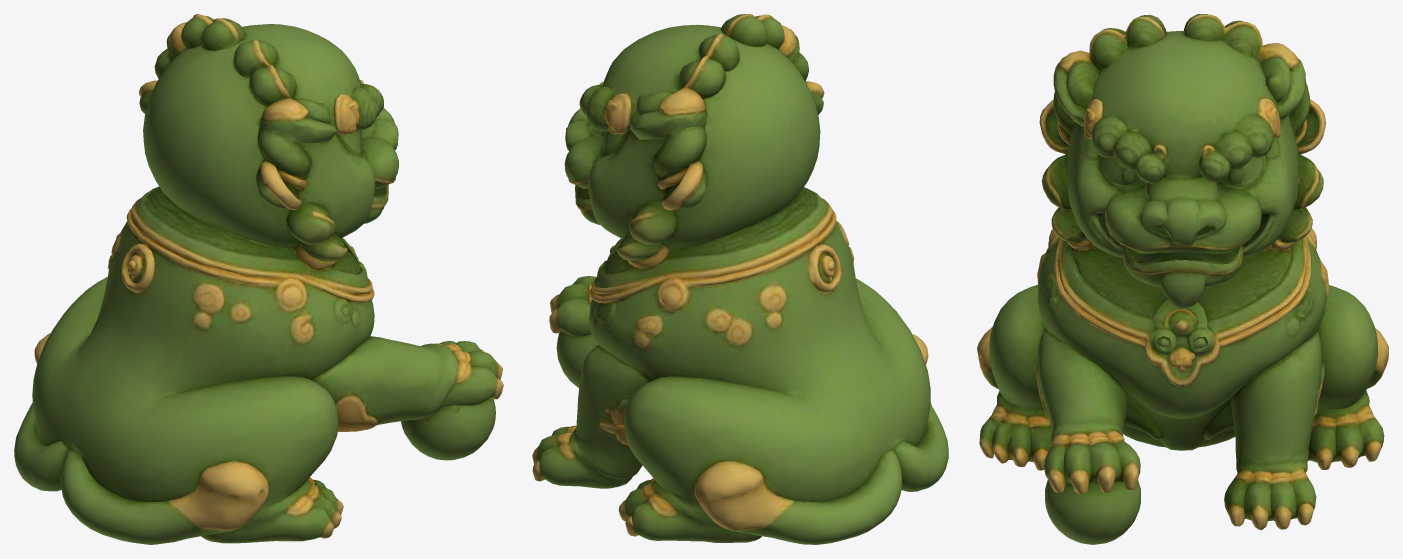
File: jadeLion.glb
The picture shows the model from 3 angles, left to right: view 1: azimuth 30°, elevation 25°; view 2: azimuth 150°, elevation 25°; view 3: azimuth 270°, elevation 25°; orthographic projection.
Visible parts, largest first — view 1: geometry_0; view 2: geometry_0; view 3: geometry_0.
Boxes of the visible parts, x1,y1,x2,y2 form: geometry_0: [14, 14, 503, 544]; geometry_0: [532, 14, 948, 544]; geometry_0: [977, 14, 1388, 544].
Size of the model in its own units: 0.9573 by 0.9989 by 0.8378.
1 material, 1 textured.
